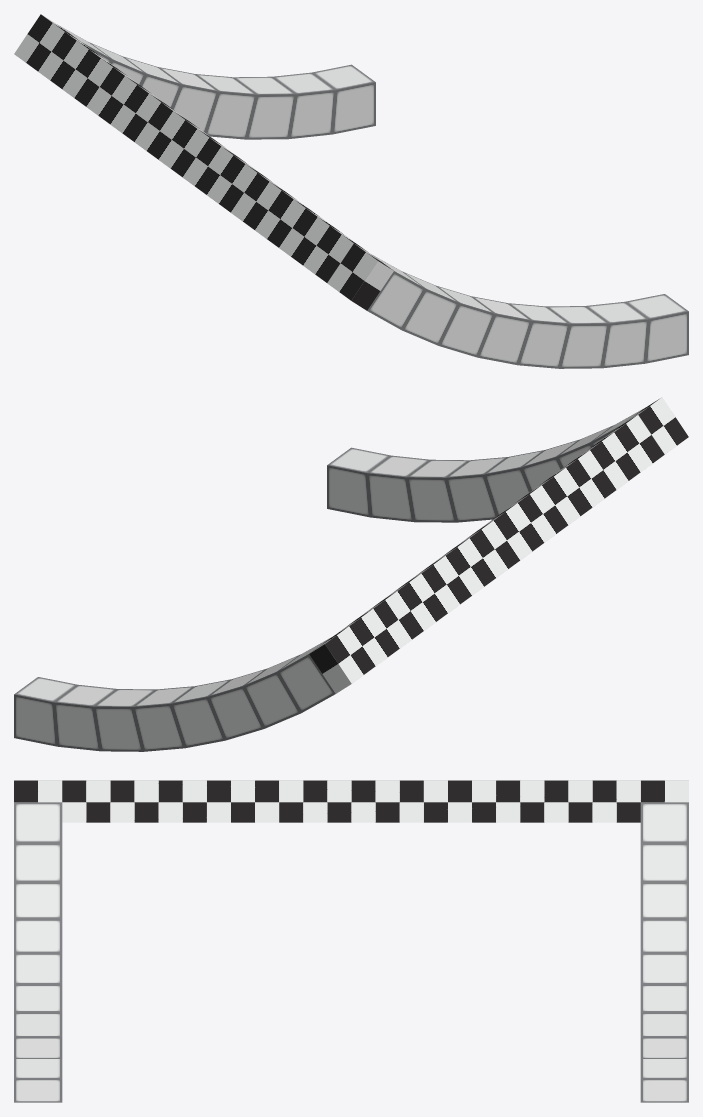
The model's file is IvresseBMTrimCurve2.obj.
3 views of the same model, one above another, from view 1: azimuth 30°, elevation 25°; view 2: azimuth 150°, elevation 25°; view 3: azimuth 270°, elevation 25° (orthographic).
Parts seen in each view (by area): view 1: IvresseBMTrimCurve2; view 2: IvresseBMTrimCurve2; view 3: IvresseBMTrimCurve2.
Boxes of the visible parts, <box> form: IvresseBMTrimCurve2: <box>14,14,688,368</box>; IvresseBMTrimCurve2: <box>14,397,688,751</box>; IvresseBMTrimCurve2: <box>14,780,688,1102</box>.
Size of the model in its own units: 4.05 by 1.95 by 7.
